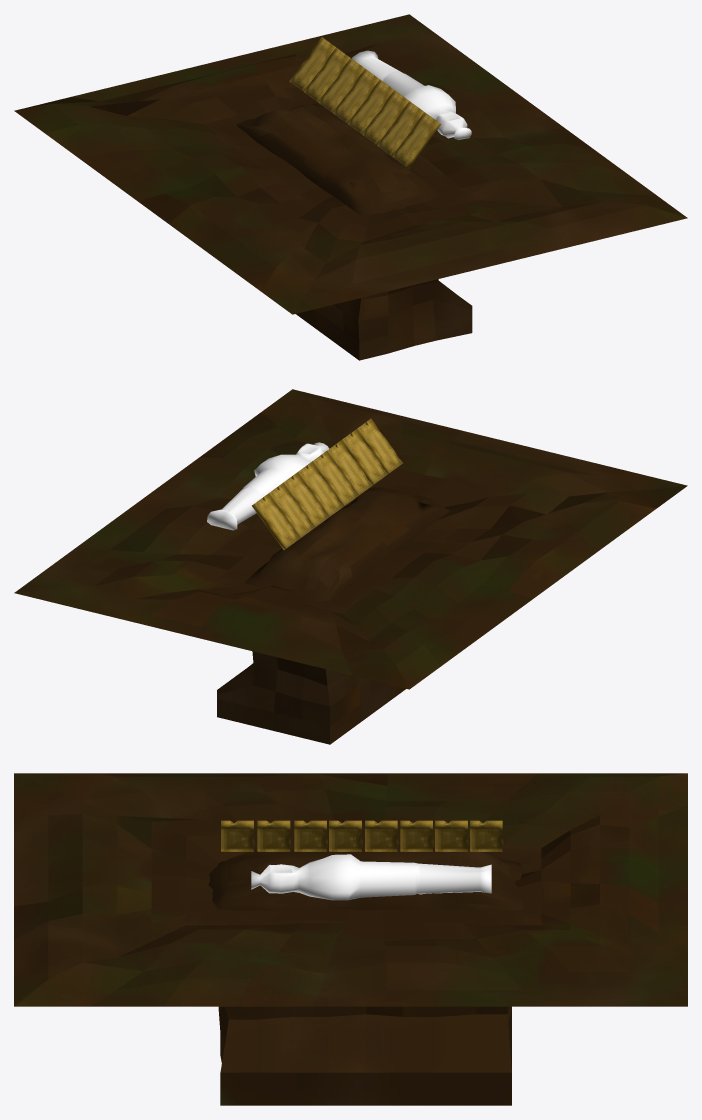
Rendered from step1.gltf.
3 renders of one model, top to bottom at view 1: azimuth 30°, elevation 25°; view 2: azimuth 150°, elevation 25°; view 3: azimuth 270°, elevation 25°, orthographic. The views are drawn at different scales.
Visible parts, largest first — view 1: plane, tanah, hole, planks, cylinder; view 2: plane, tanah, hole, planks, cylinder; view 3: plane, hole, tanah, planks, cylinder.
Boxes of the visible parts, bbox=[...] form: plane: bbox=[14, 14, 687, 314]; tanah: bbox=[236, 103, 438, 215]; hole: bbox=[296, 279, 472, 360]; planks: bbox=[289, 37, 441, 168]; cylinder: bbox=[352, 50, 471, 139]; plane: bbox=[14, 389, 687, 689]; tanah: bbox=[245, 487, 450, 601]; hole: bbox=[217, 651, 405, 744]; planks: bbox=[252, 418, 402, 549]; cylinder: bbox=[207, 442, 329, 530]; plane: bbox=[14, 773, 687, 1006]; hole: bbox=[218, 1006, 511, 1105]; tanah: bbox=[208, 847, 523, 910]; planks: bbox=[221, 820, 503, 851]; cylinder: bbox=[251, 854, 491, 900].
Size of the model in its own units: 5.69 by 3.01 by 6.94.
Materials: 5 (5 with a texture image).
